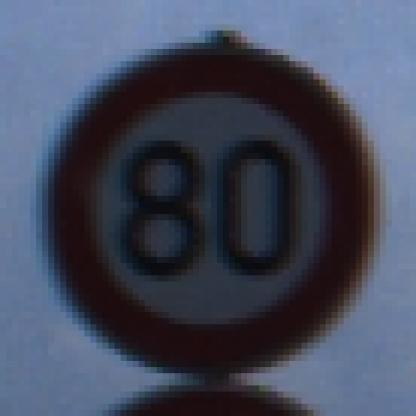Speed Limit 80: (55, 53, 367, 370)
